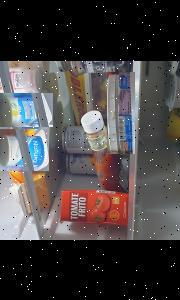Yogur: (0, 128, 49, 170), (0, 92, 53, 126)
